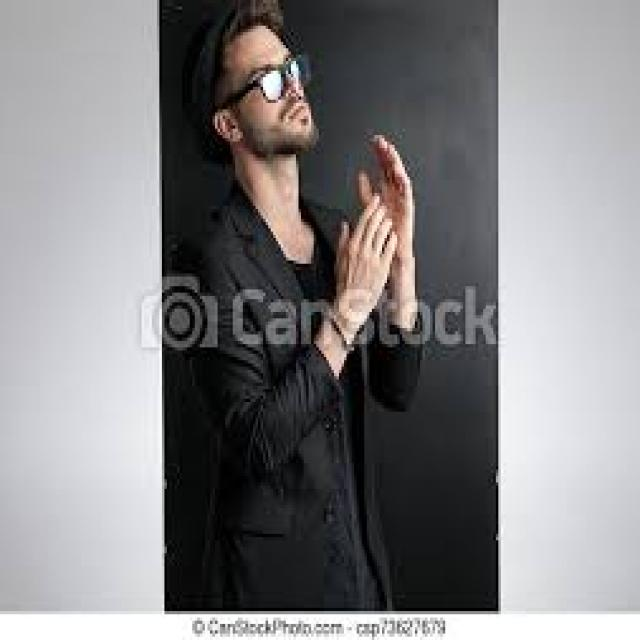head: (202, 6, 319, 168)
